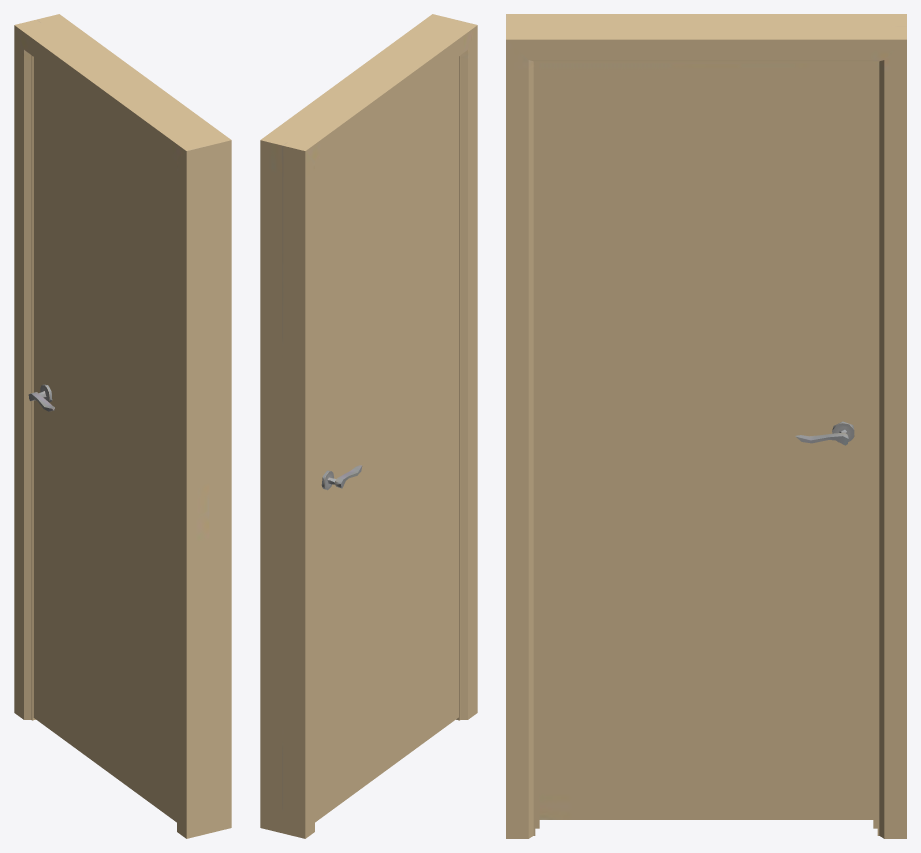
Rendered from Door0021.obj.
The picture shows the model from 3 angles, left to right: view 1: azimuth 30°, elevation 25°; view 2: azimuth 150°, elevation 25°; view 3: azimuth 270°, elevation 25°; orthographic projection. The views are drawn at different scales.
Bounding box in the file's own units: 0.182 × 2.12 × 0.964.
Materials: 1 (1 with a texture image).
